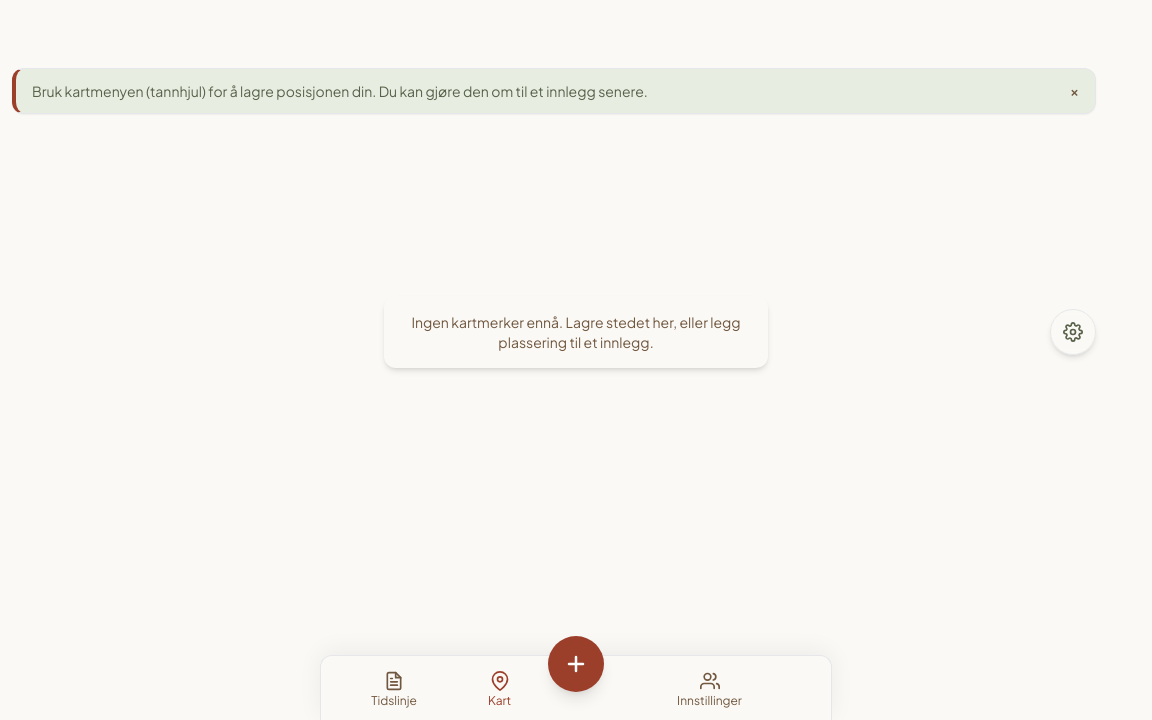
Test case: MapScreen › shows save-location control when user can contribute
The width and height of the screenshot is (1152, 720).
Click the button named "Åpne kartmeny" at x=1073, y=332, box 1050,309 -> 1096,355
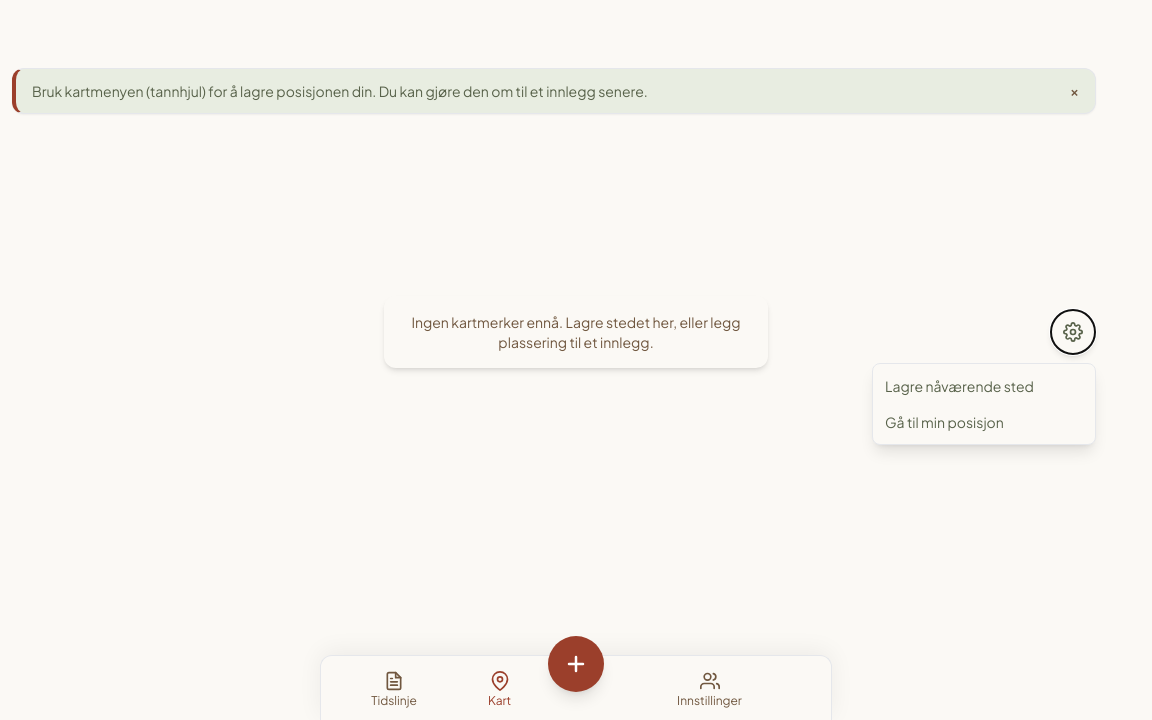
Check: the menu item "Lagre nåværende sted" is shown, box 873,368 -> 1095,404
Check: the menu item "Gå til min posisjon" is shown, box 873,404 -> 1095,440
